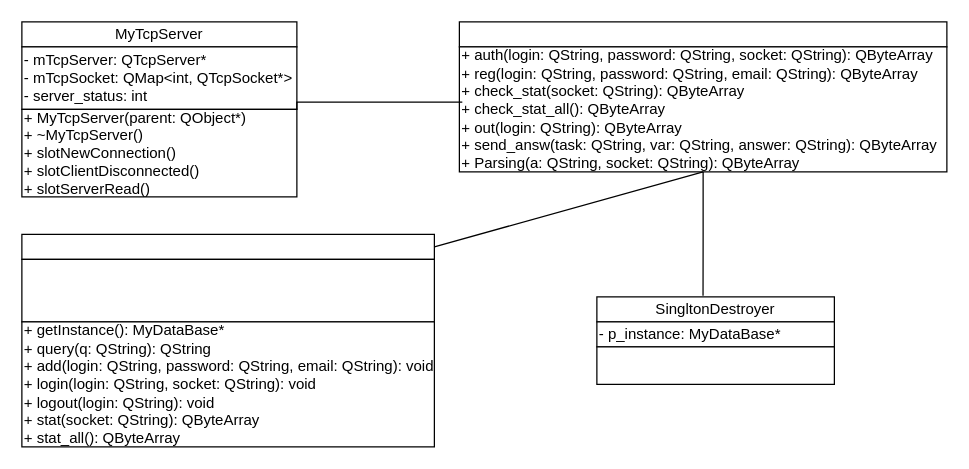
Image size: 969x469. Some labels were removed from this diagram. Each missing label, with the box of its shape:
+ ~SingletonDestroyer() | | + initialize(p: MyDataBase*): void: (596, 346, 834, 384)
- p_instance: MyDataBase* - db: QSqlDatabase: (21, 258, 434, 322)
Db_sing: (21, 233, 434, 259)
Function: (458, 21, 947, 47)
